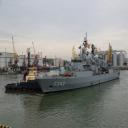Fragata: (35, 47, 123, 98)
